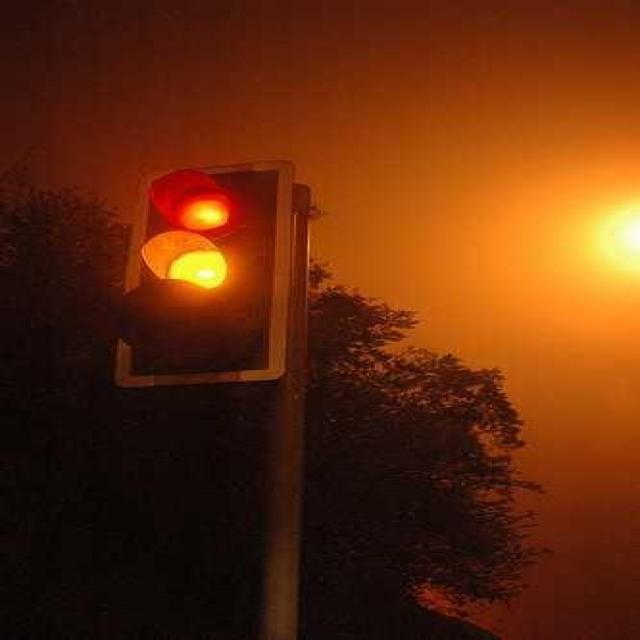Traffic Light -Red-: (134, 170, 276, 230)
Traffic Light -Yellow-: (102, 156, 308, 414), (122, 234, 284, 286)
